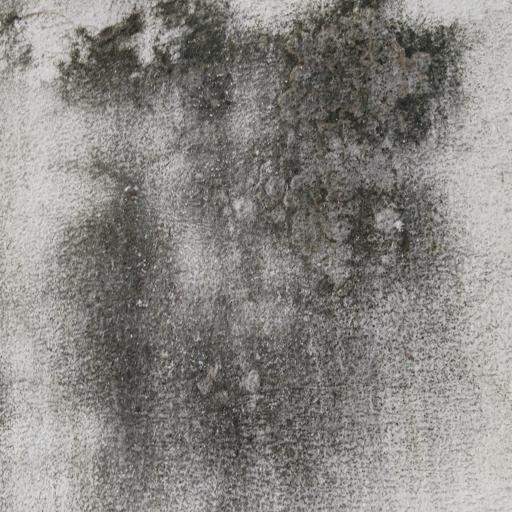algae: (59, 1, 477, 462)
